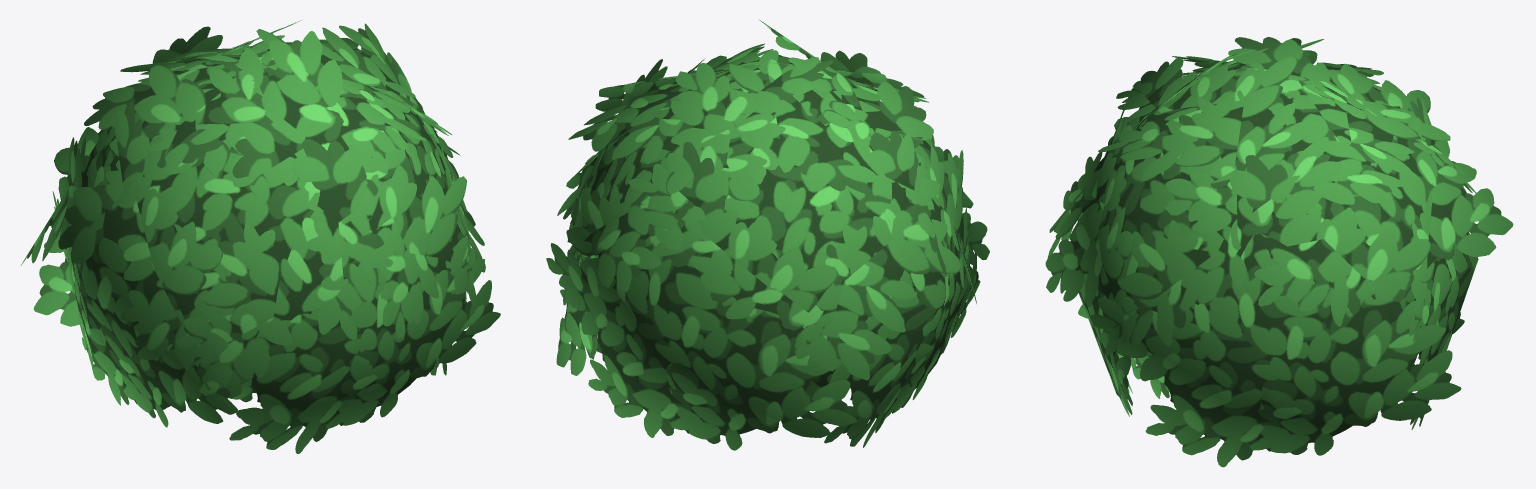
Rendered from Bush.fbx.
3 views of the same model, side by side, from view 1: azimuth 30°, elevation 25°; view 2: azimuth 150°, elevation 25°; view 3: azimuth 270°, elevation 25° (orthographic). The views are drawn at different scales.
Parts seen in each view (by area): view 1: Bush; view 2: Bush; view 3: Bush.
Part boxes in pixels (box(x1,y1,x2,y2)): Bush: box(21, 20, 500, 453); Bush: box(546, 20, 989, 450); Bush: box(1045, 37, 1513, 467).
Bounding box in the file's own units: 3.03 × 2.76 × 3.16.
